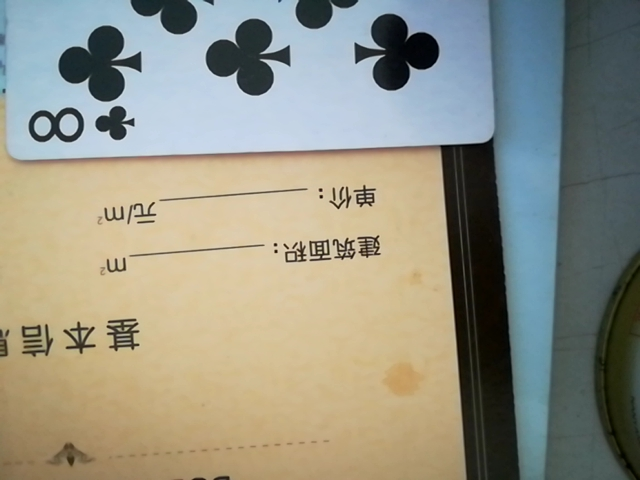mh 8: (0, 0, 503, 163)
